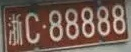C: (25, 13, 40, 44)
